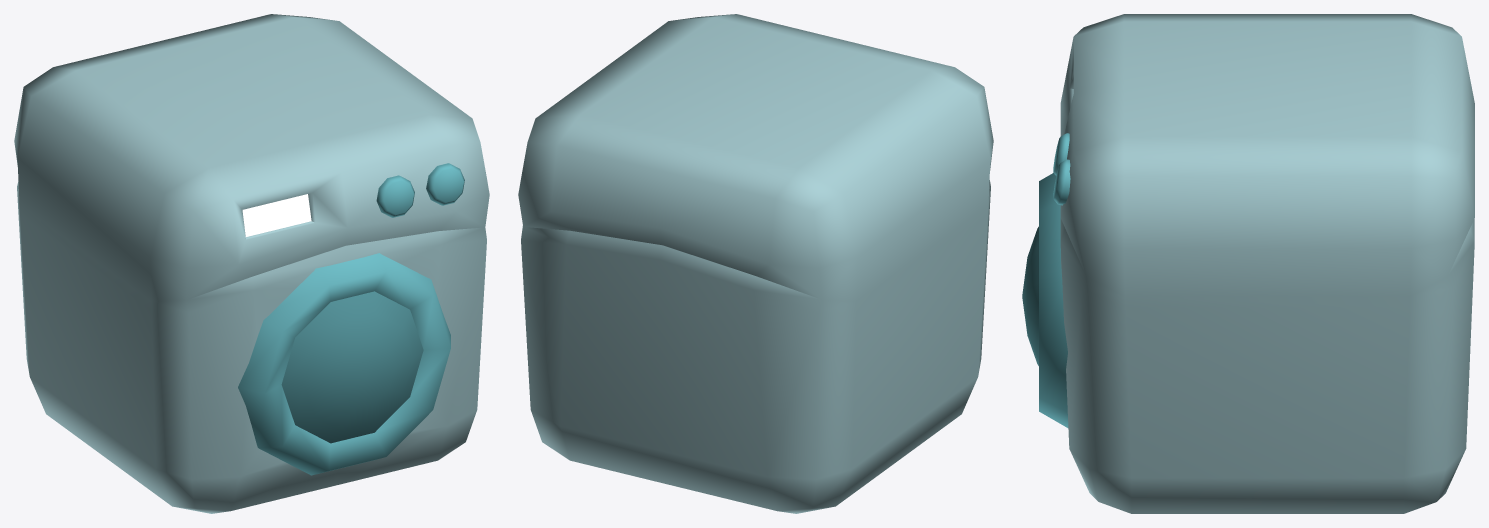
File: app_washingMachine.fbx
3 renders of one model, left to right at view 1: azimuth 30°, elevation 25°; view 2: azimuth 150°, elevation 25°; view 3: azimuth 270°, elevation 25°, orthographic. The views are drawn at different scales.
Parts seen in each view (by area): view 1: washingMachine_body, washingMachine_door; view 2: washingMachine_body; view 3: washingMachine_body, washingMachine_door.
Boxes of the visible parts, left/top/right/bottom form: washingMachine_body: left=14, top=14, right=489, bottom=513; washingMachine_door: left=238, top=253, right=450, bottom=475; washingMachine_body: left=518, top=14, right=993, bottom=513; washingMachine_body: left=1053, top=14, right=1474, bottom=513; washingMachine_door: left=1022, top=173, right=1068, bottom=427.
Size of the model in its own units: 65 by 64.7 by 70.26.
